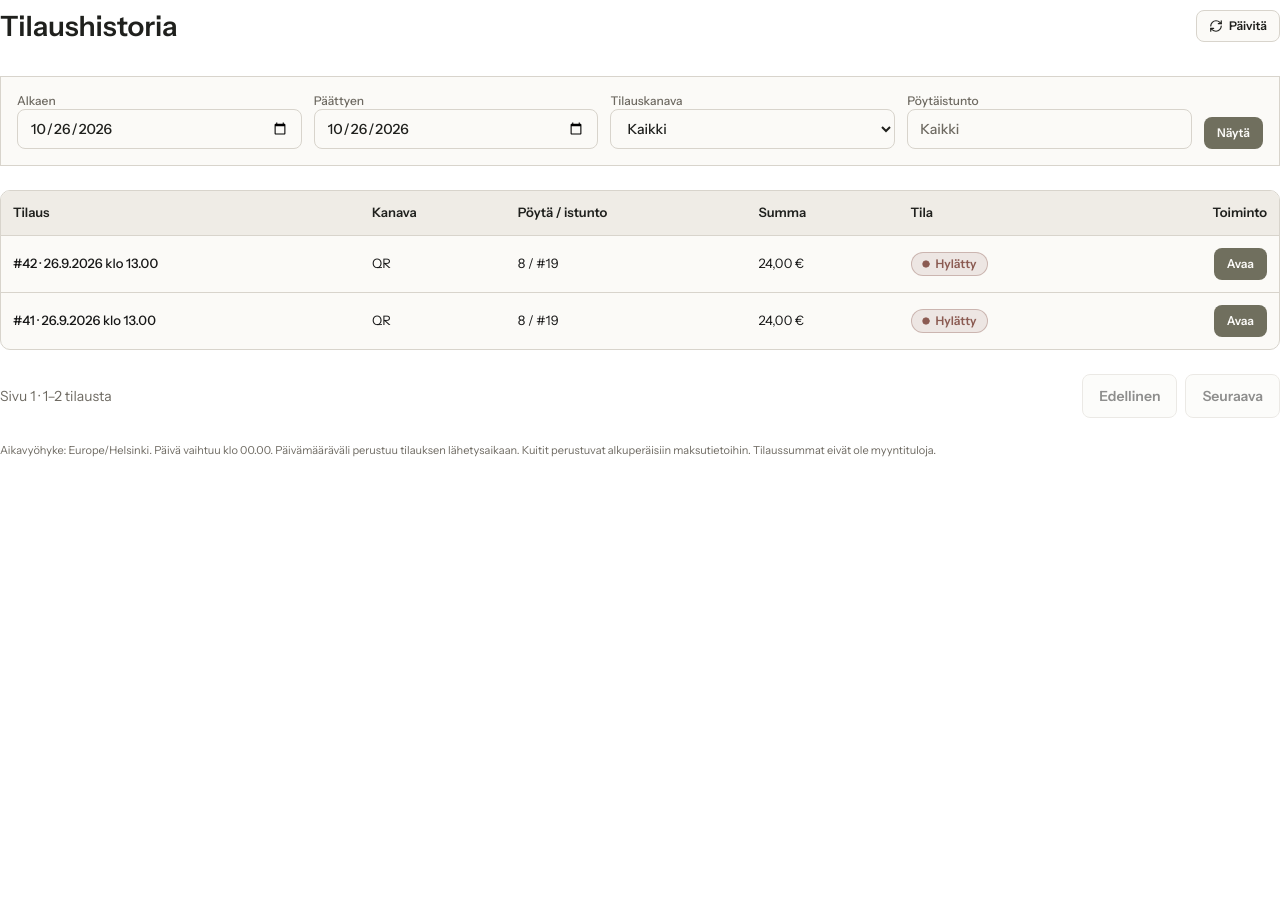
Test case: ignores a closed detail response after another order opens
Click the button "Avaa" in the row of "41" at (1240, 320), box [1214,304,1267,336]
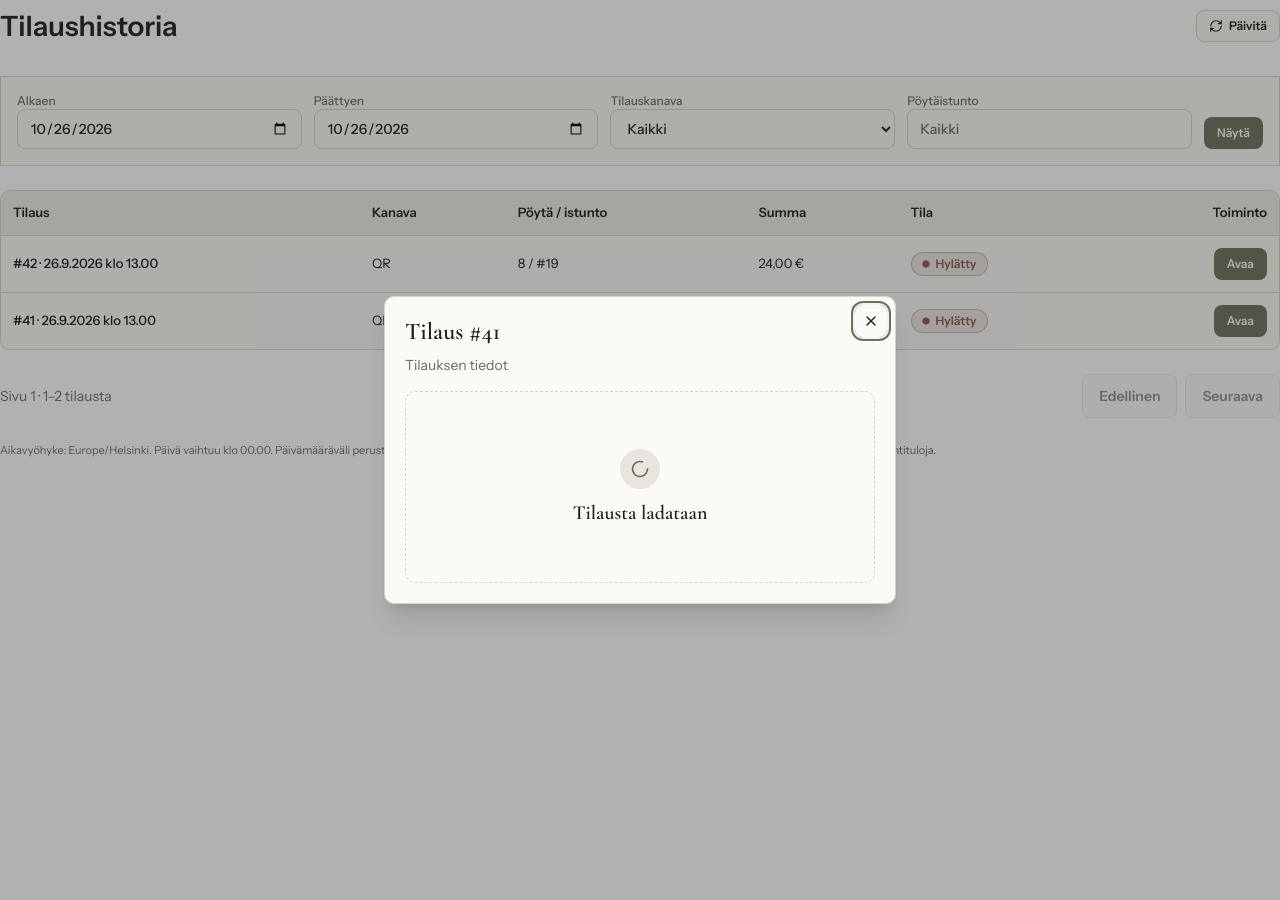
Click the button named "Sulje" at (871, 321), box [855,305,887,337]
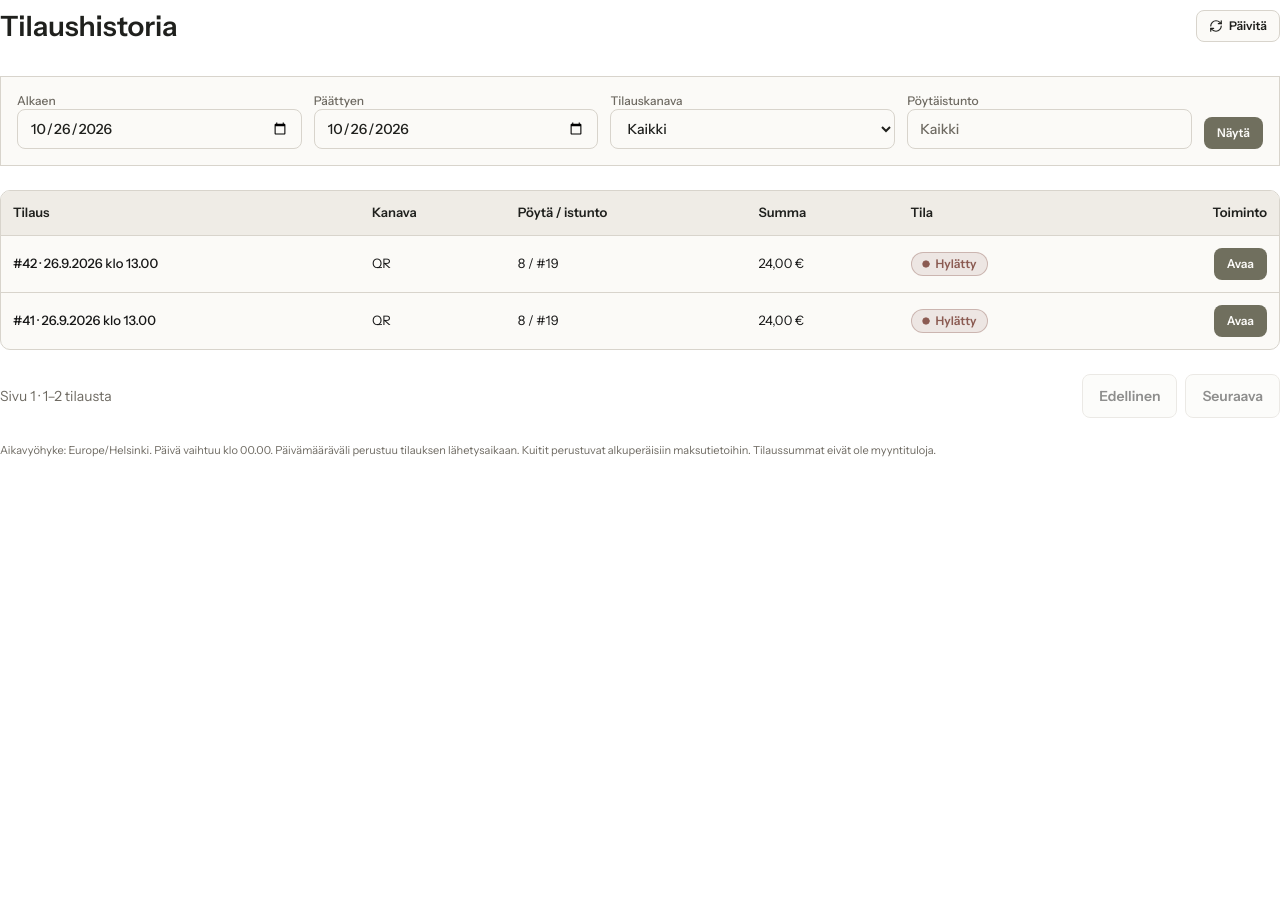
Click the button "Avaa" in the row of "42" at (1240, 264), box [1214,248,1267,280]
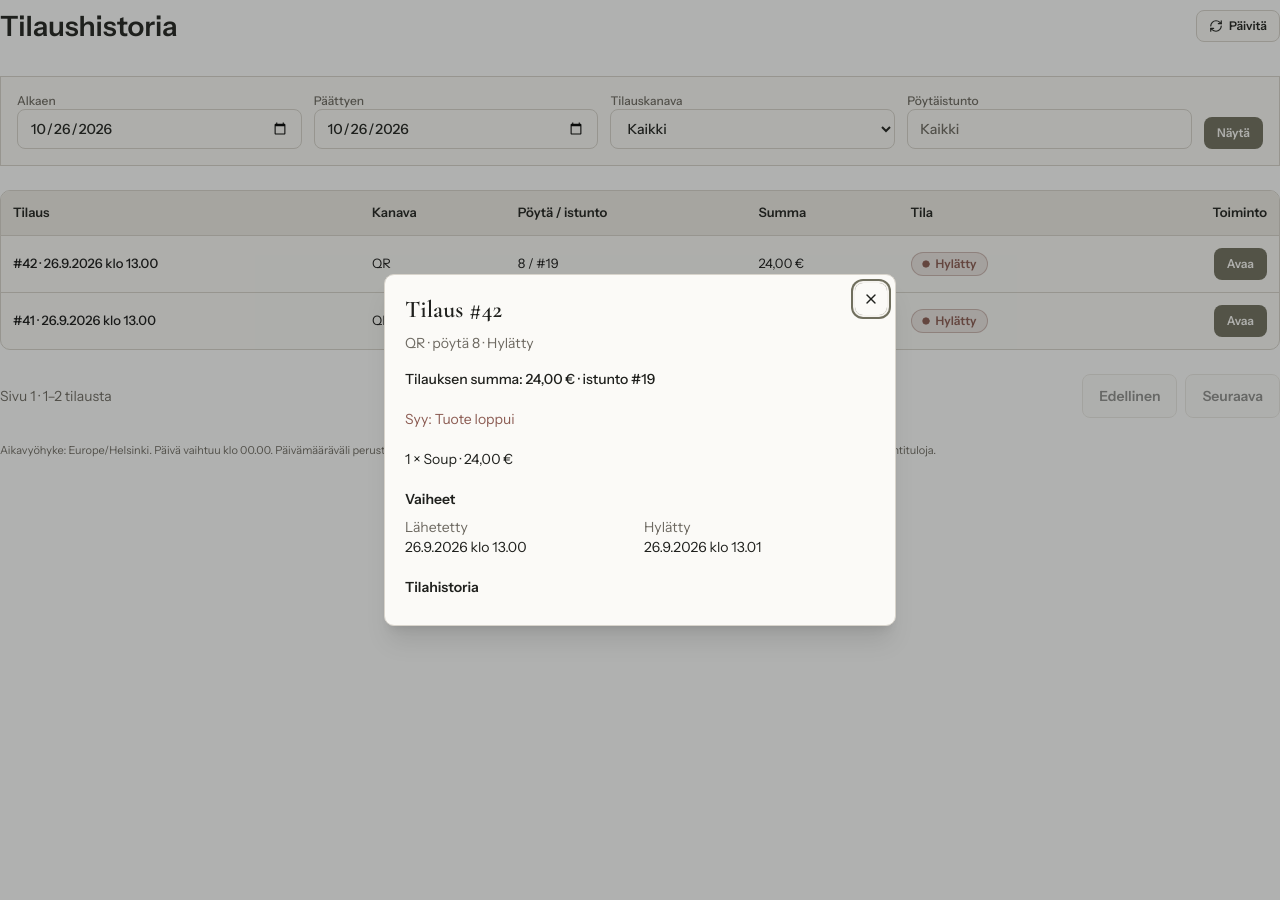
Expected: the text "Tilauksen summa:" is shown, [405,370,525,388]
Expected: the dialog shows "Tilaus #42", [384,274,896,626]
